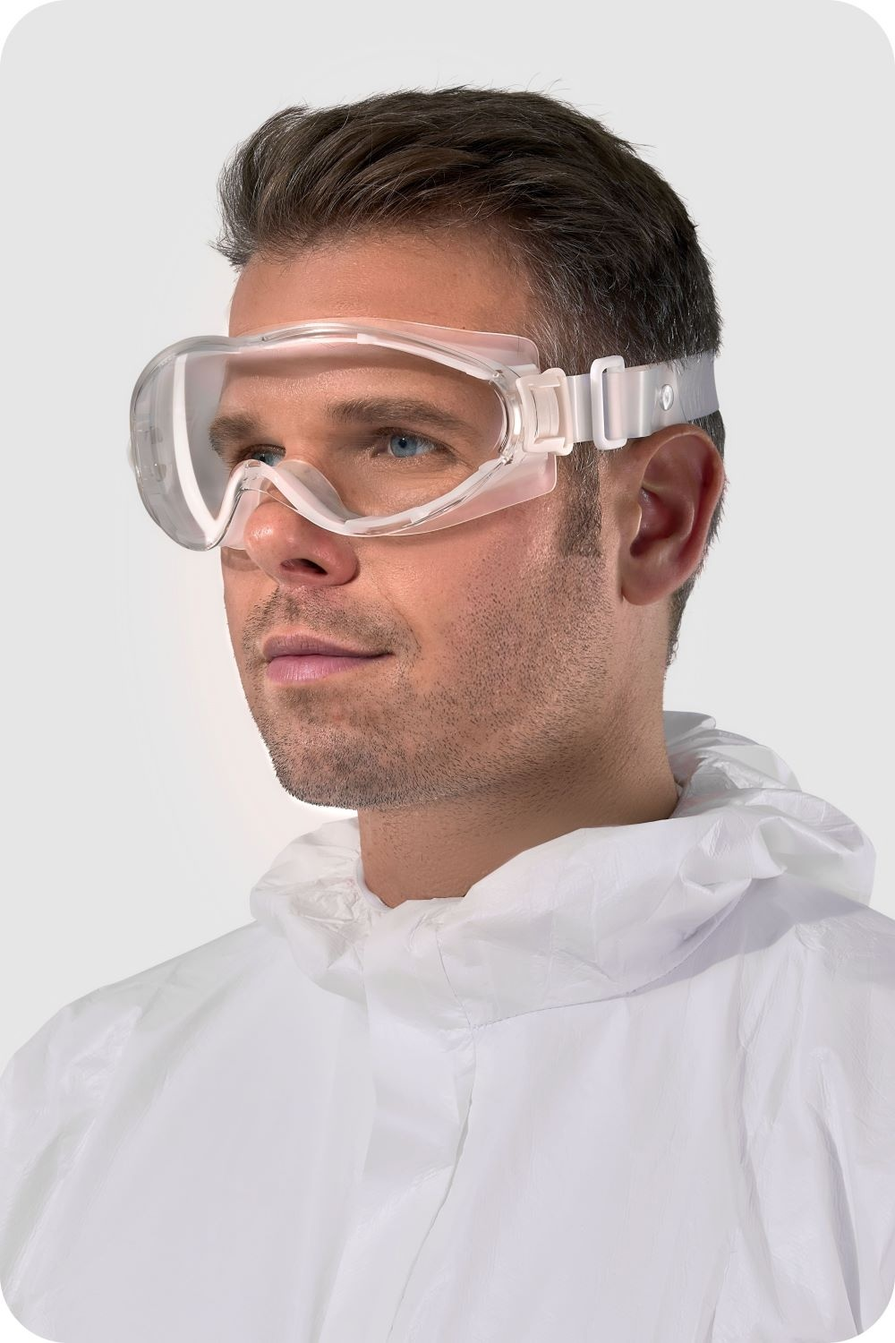safety_goggles: (34, 323, 740, 563)
